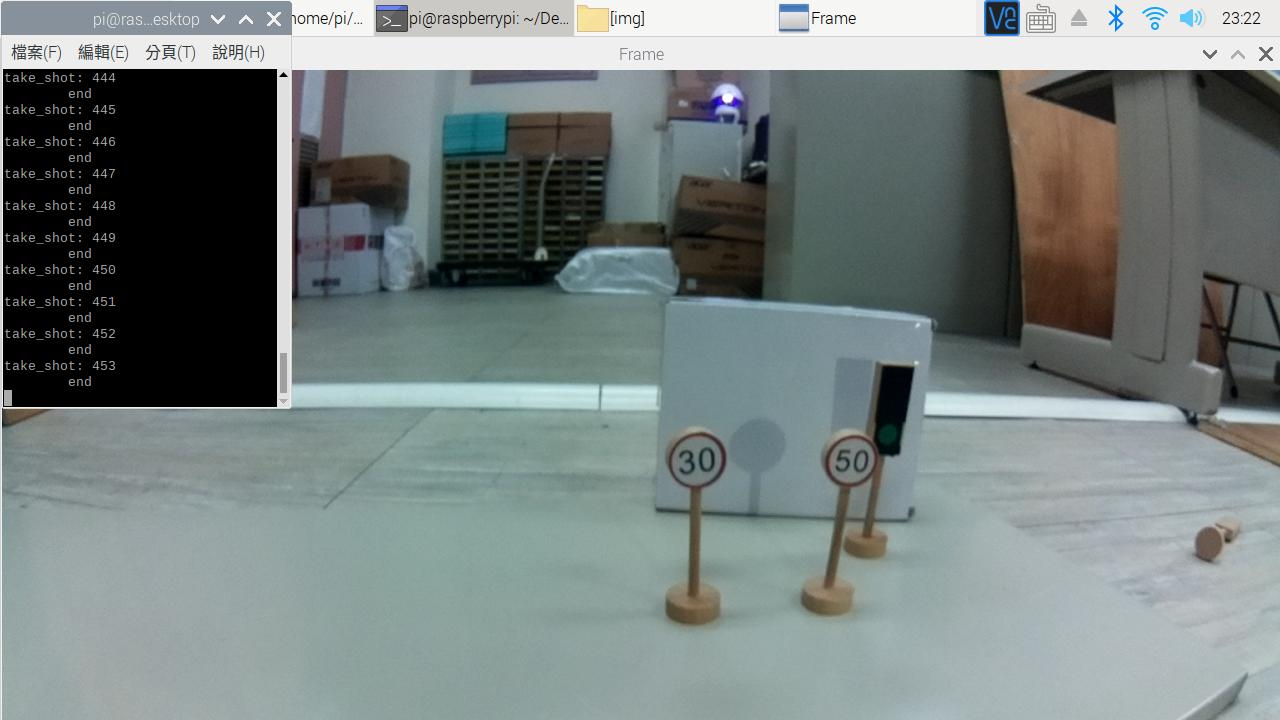Green: (864, 352, 925, 460)
Speed30: (659, 424, 730, 495)
Speed50: (824, 429, 877, 491)
